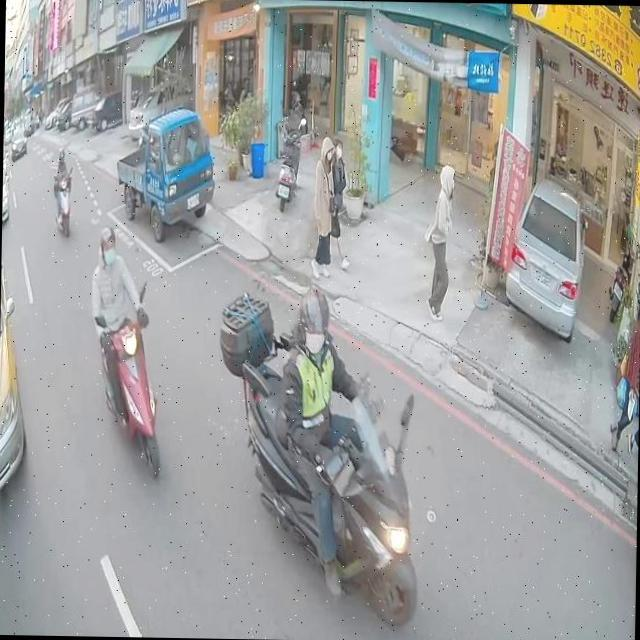person: (276, 281, 420, 599), (88, 225, 158, 442), (422, 158, 461, 320), (311, 136, 354, 272), (610, 294, 640, 458), (313, 136, 342, 276), (52, 146, 72, 232)
